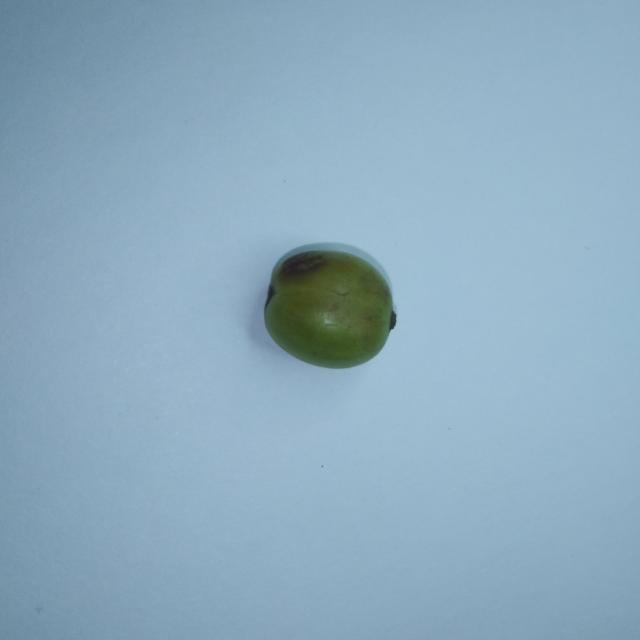Sano: (264, 243, 395, 367)
